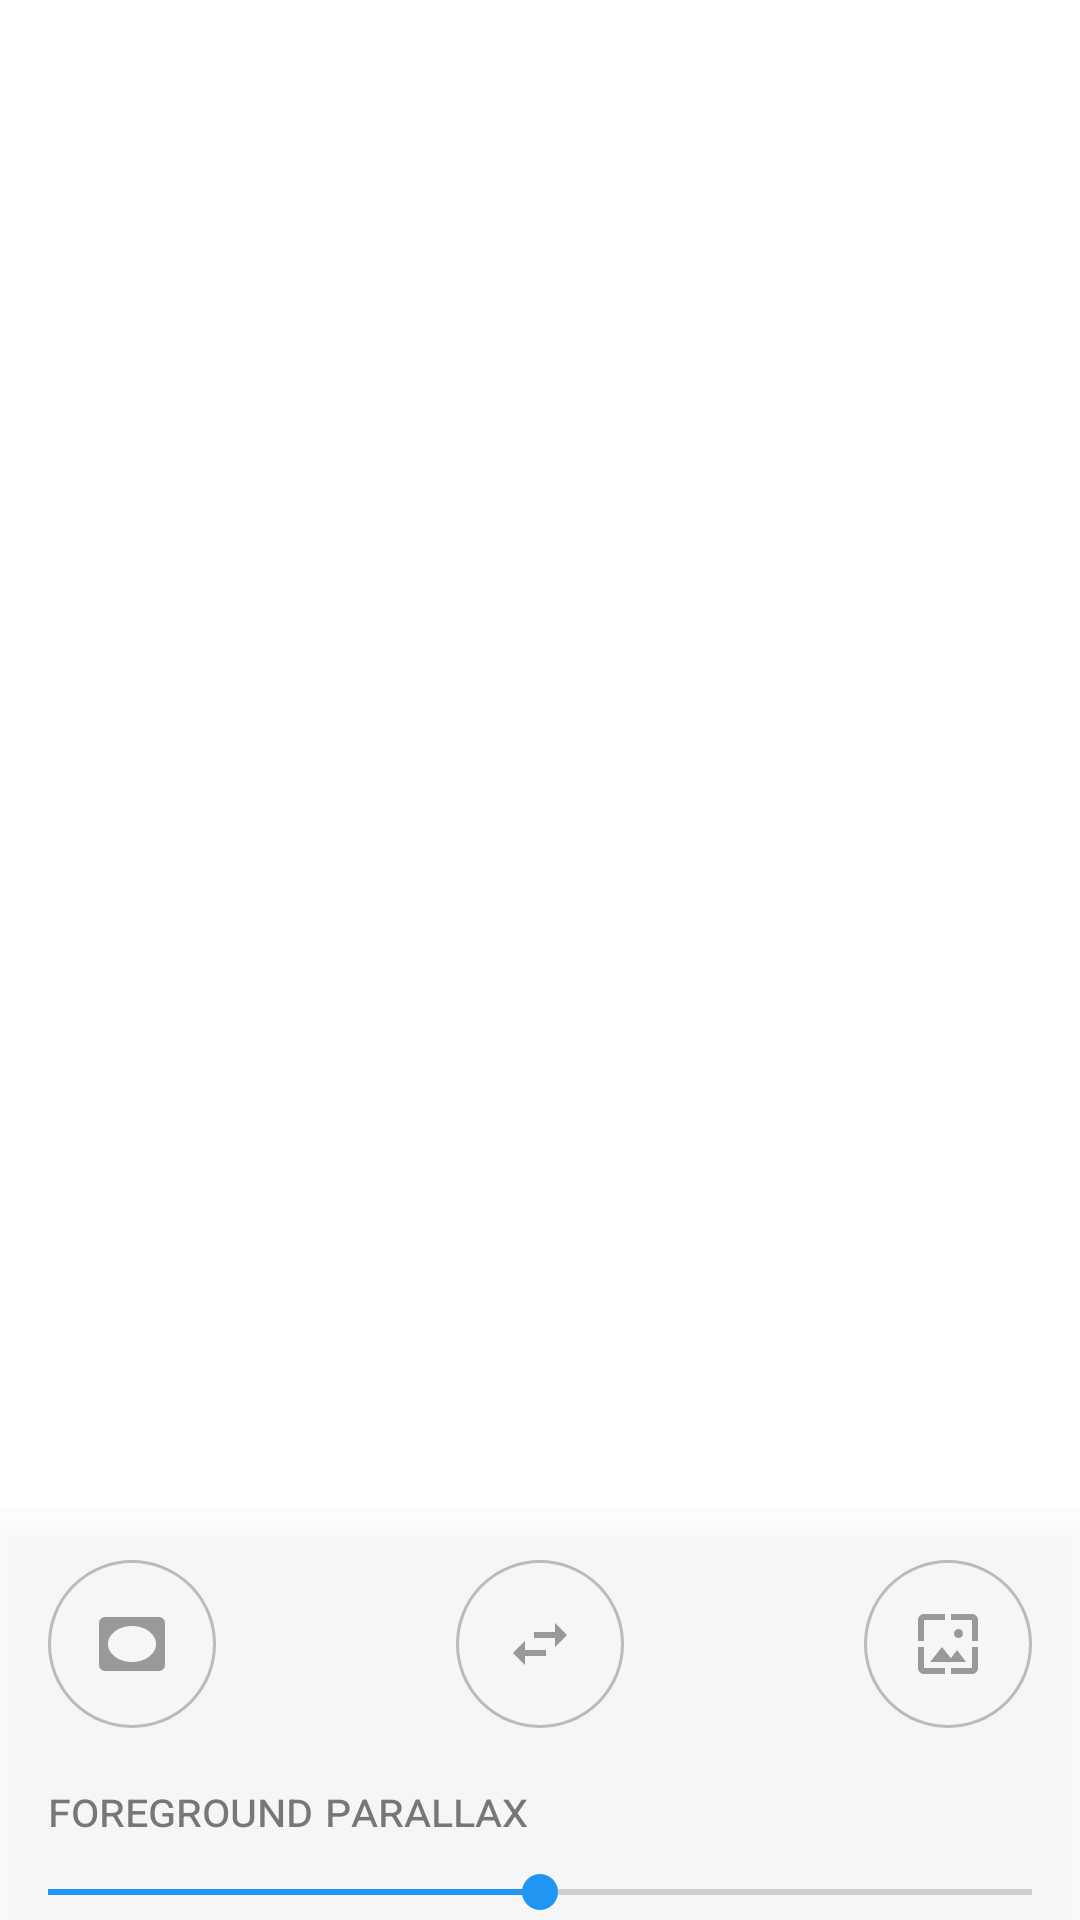

Icons on this 1080x1920 Android screen, each with its box as (x1,y1,x2,y2):
horizontal: (456,1560,624,1728)
